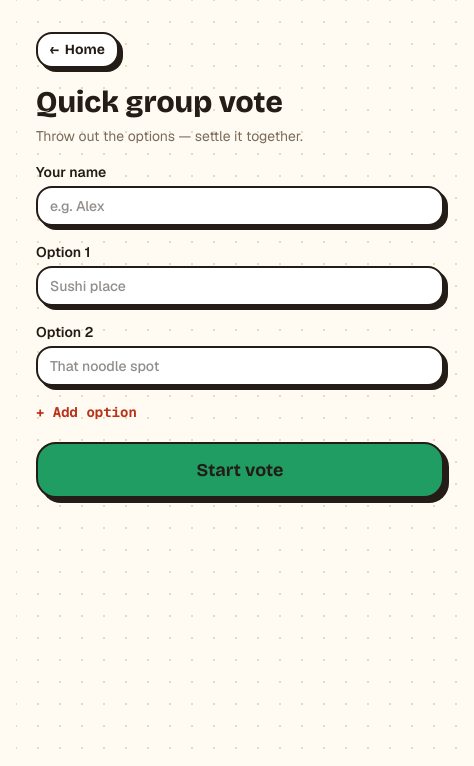
Test: QuickVoteForm › does not submit with fewer than 2 filled options
Type "Sam" into the field labelled "Your name" at {"x": 240, "y": 206}, box [36, 186, 444, 226]
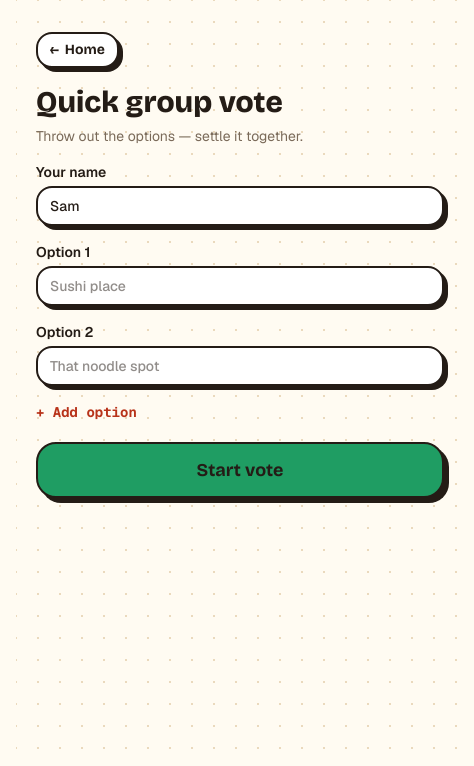
Type "Sushi" into the field labelled "Option 1" at {"x": 240, "y": 286}, box [36, 266, 444, 306]
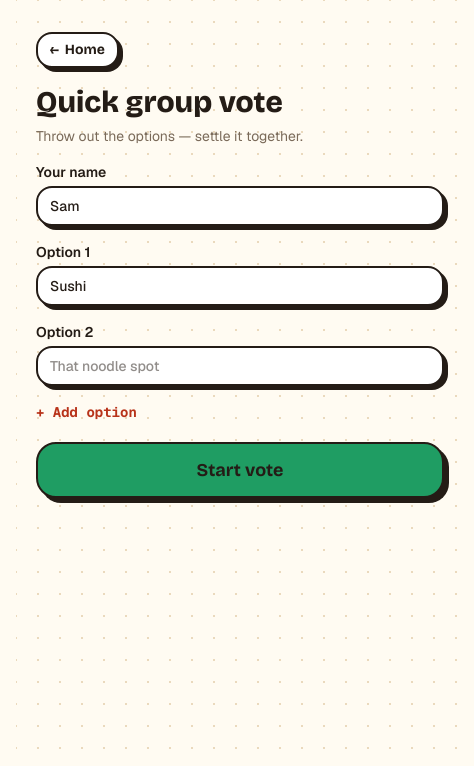
Click the button "Start vote" at {"x": 240, "y": 470}, box [36, 442, 444, 498]
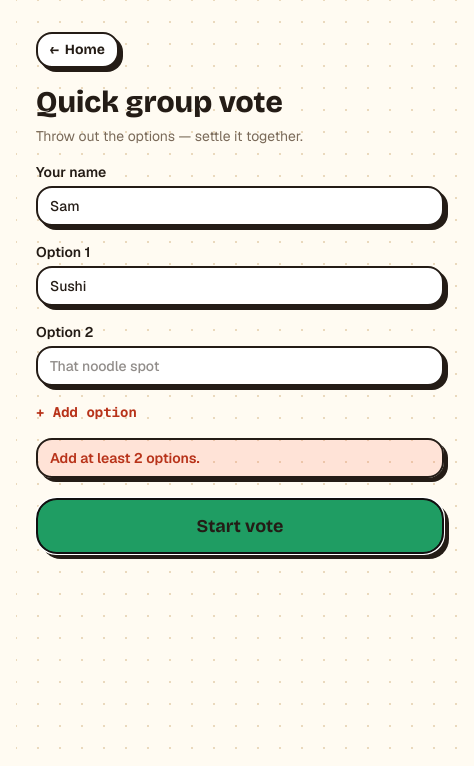
Expected: the text "Add at least 2 options." is shown, [36, 438, 444, 478]
